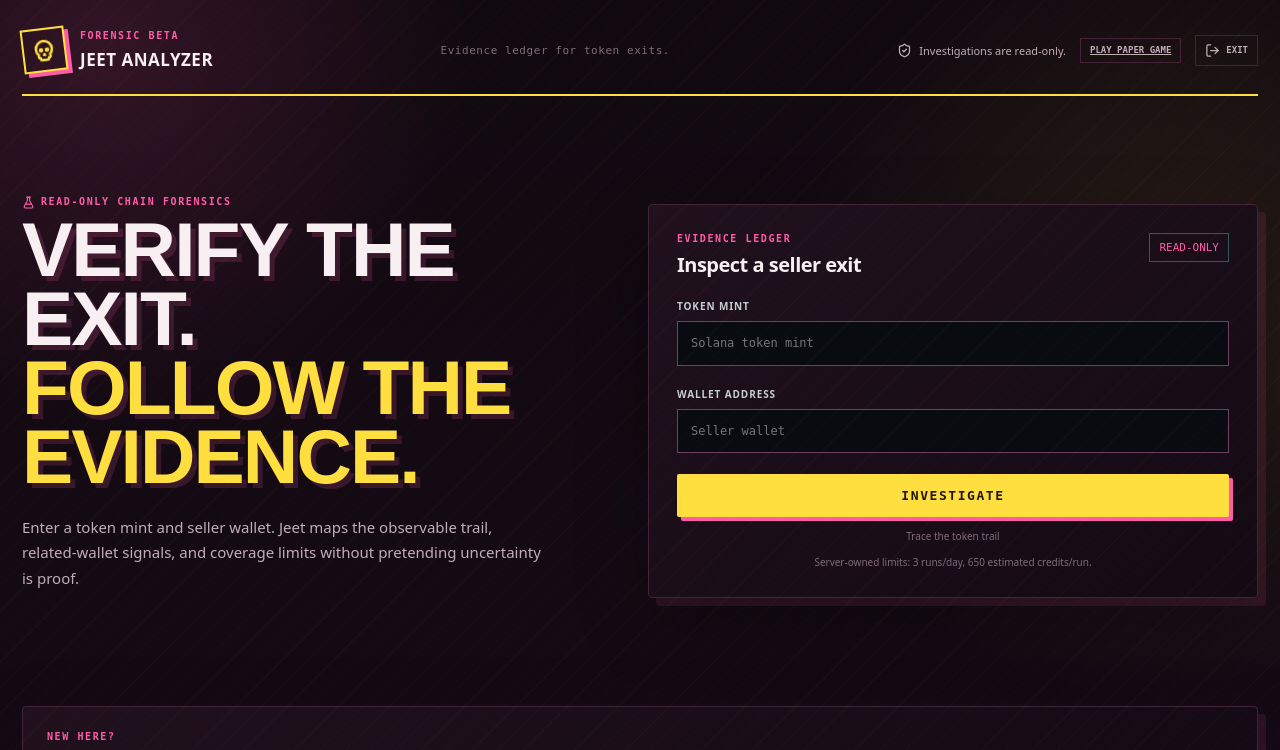
it: invite-only beta experience › distinguishes incomplete coverage and provider-budget exhaustion from a system error
Expected: the text "Trace the token trail" is shown, [906,529,1000,543]
Note: Render a stored result by driving the standard form.
Type "11111111111111111111111111111111" into the field labelled "Token mint". click: coordinates (953, 343)
box: [677,321,1229,366]
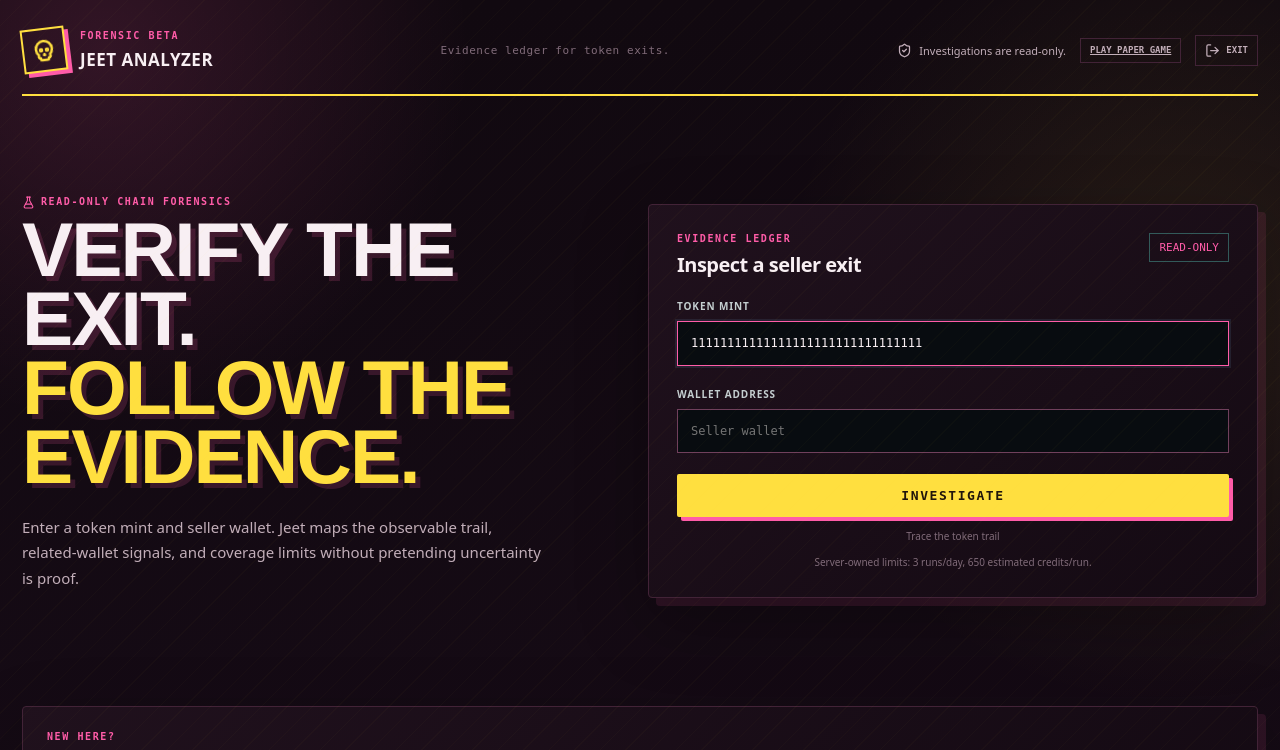
Type "4vJ9JU1bJJE96FWSJKvHsmmF5xmD3e3shZV4L6jH4b5" into the field labelled "Wallet address". click: coordinates (953, 431)
box: [677,408,1229,453]
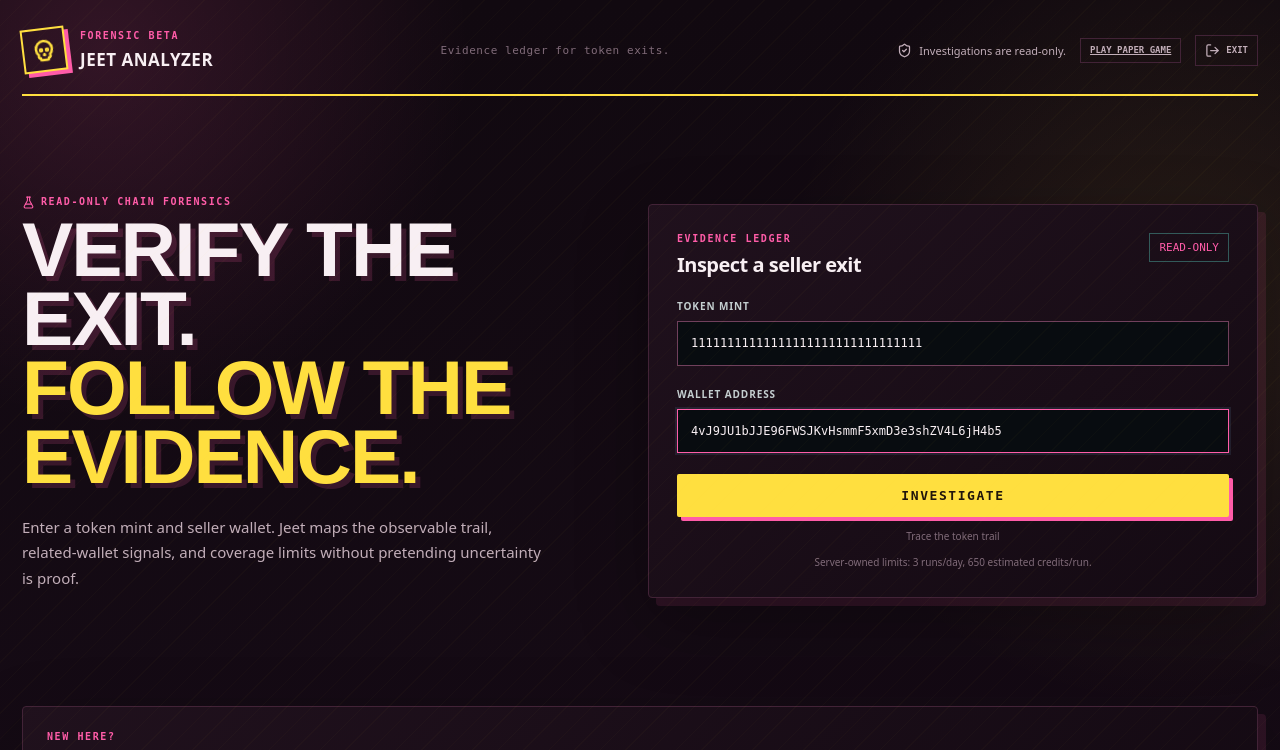
Click the button "INVESTIGATE". click: coordinates (953, 495)
box: [677,474,1229,517]
(page scrolled)
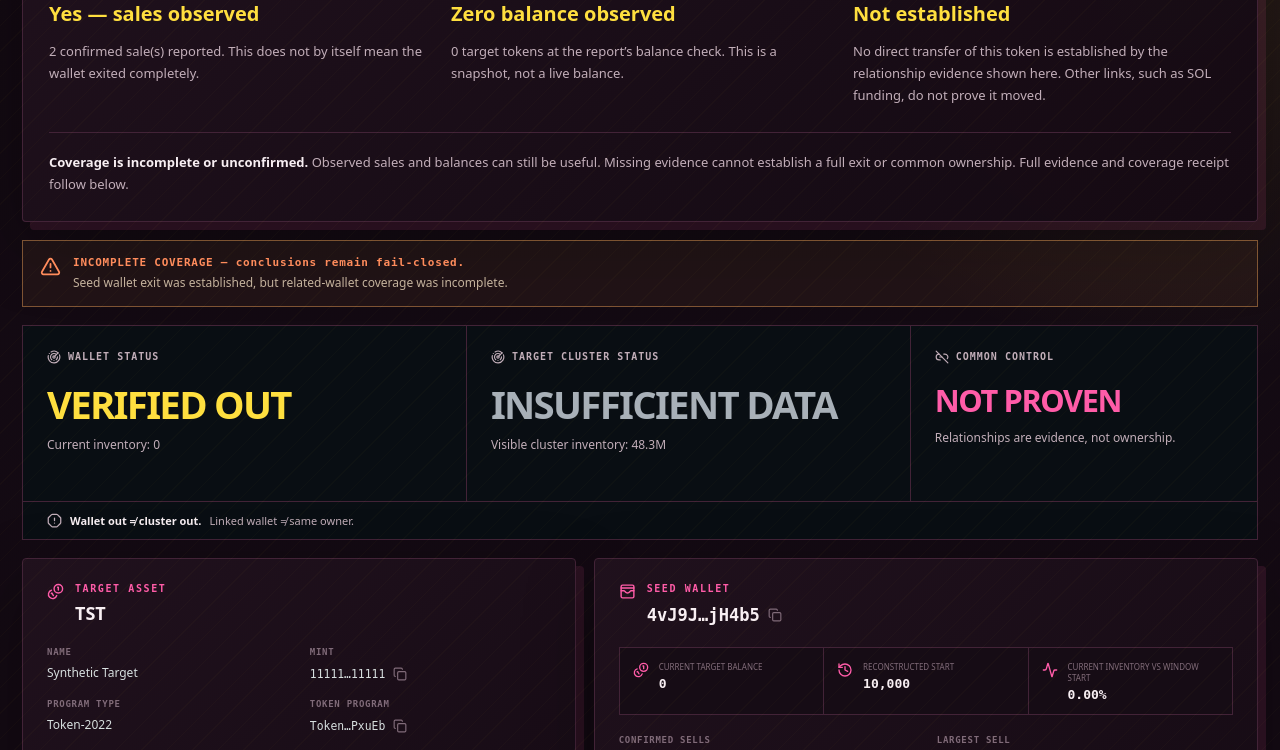
Expected: the text "Seed wallet exit was established" is shown, [73,274,508,291]
Expected: the text "NOT PROVEN" is shown, [935,379,1121,421]
